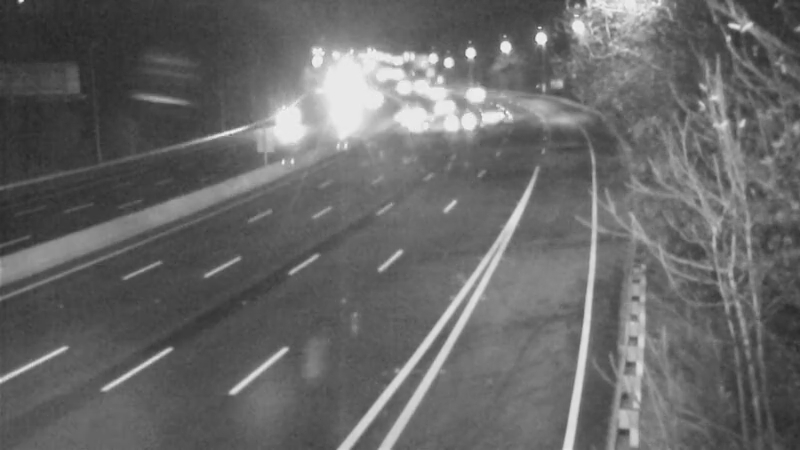vehicle: (394, 60, 444, 110), (377, 63, 427, 113), (449, 69, 499, 119), (411, 68, 461, 118), (418, 83, 468, 133), (380, 89, 430, 139), (466, 91, 516, 141), (428, 101, 478, 151), (267, 90, 317, 140)
